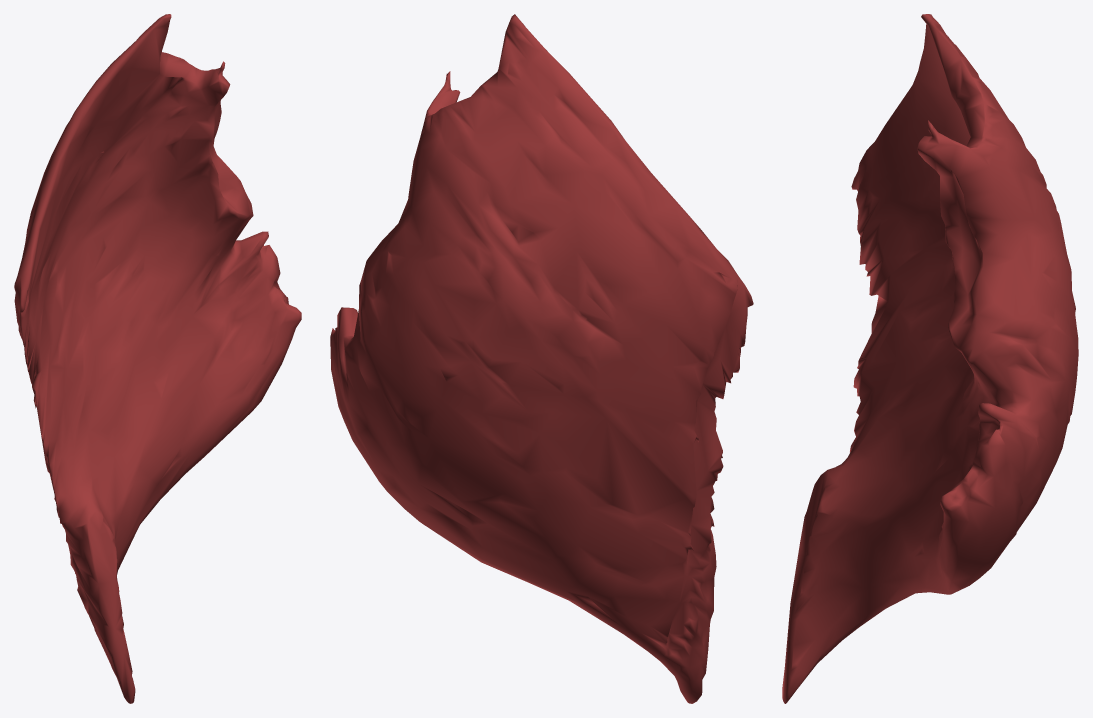
Rendered from gluteus-maximus-muscle-r.glb.
3 views of the same model, side by side, from view 1: azimuth 30°, elevation 25°; view 2: azimuth 150°, elevation 25°; view 3: azimuth 270°, elevation 25° (orthographic). The views are drawn at different scales.
Parts seen in each view (by area): view 1: Gluteus maximus muscle.r; view 2: Gluteus maximus muscle.r; view 3: Gluteus maximus muscle.r.
Boxes of the visible parts, x1=… form: Gluteus maximus muscle.r: x1=14, y1=14, x2=301, y2=703; Gluteus maximus muscle.r: x1=330, y1=14, x2=753, y2=703; Gluteus maximus muscle.r: x1=782, y1=14, x2=1078, y2=703.
Bounding box in the file's own units: 0.1454 × 0.2695 × 0.097.
